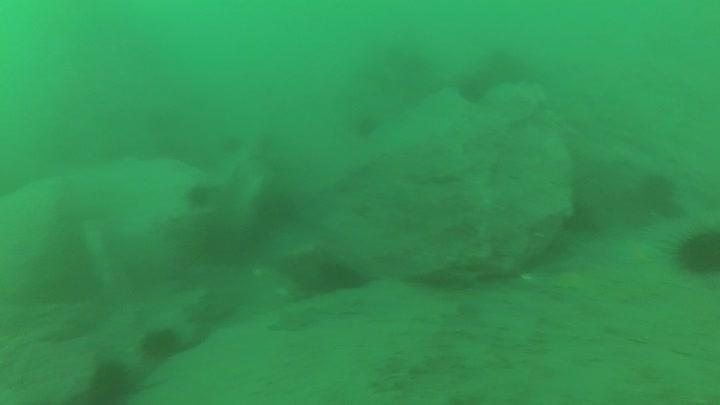echinus: (199, 217, 256, 268), (672, 225, 720, 278), (86, 358, 136, 404), (250, 186, 300, 230), (635, 170, 679, 212), (138, 325, 183, 363), (455, 74, 490, 106), (183, 181, 215, 211), (350, 111, 382, 141), (218, 131, 244, 153)
